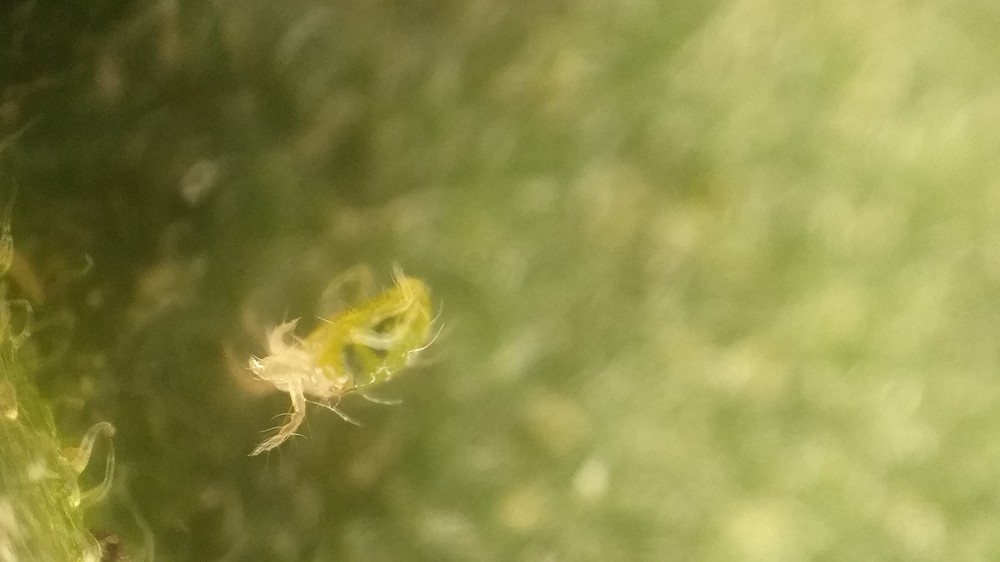Aracnido Rojo: (213, 258, 475, 468)
